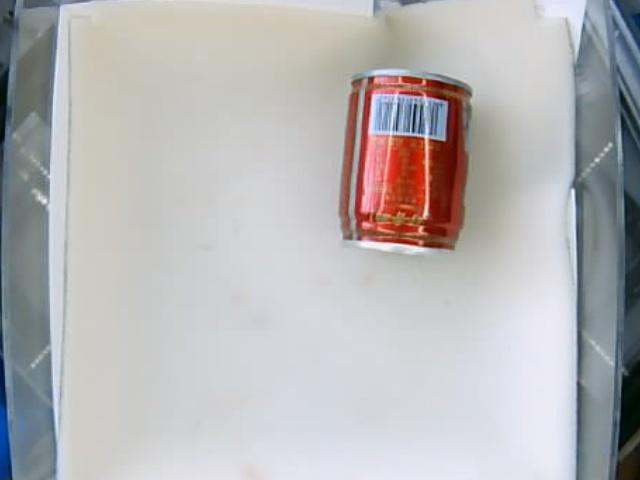Bottle: (339, 71, 473, 257)
